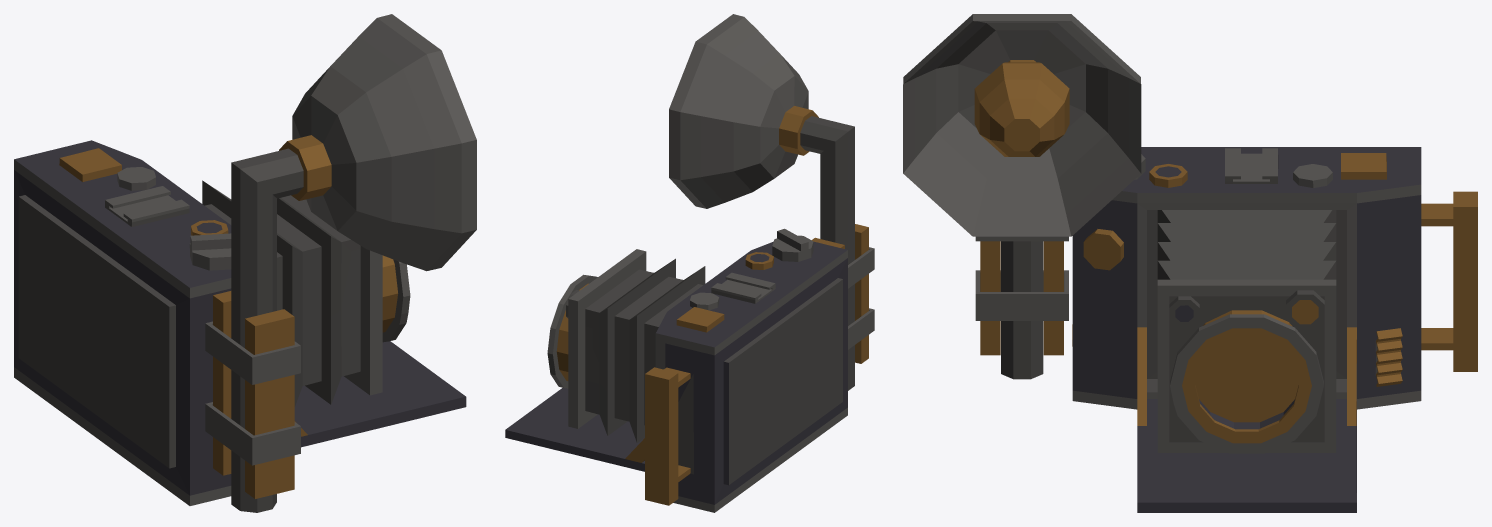
The model's file is CameraBlack.fbx.
The picture shows the model from 3 angles, left to right: view 1: azimuth 30°, elevation 25°; view 2: azimuth 150°, elevation 25°; view 3: azimuth 270°, elevation 25°; orthographic projection. The views are drawn at different scales.
Parts seen in each view (by area): view 1: Camera.001, Flash; view 2: Camera.001, Flash, Camera; view 3: Camera.001, Flash, Camera.
Boxes of the visible parts, box(x1,y1,x2,y2) form: Camera.001: box(14, 140, 466, 505); Flash: box(205, 14, 476, 512); Camera.001: box(505, 228, 847, 512); Flash: box(669, 14, 874, 390); Camera: box(645, 367, 690, 505); Camera.001: box(1072, 147, 1421, 512); Flash: box(903, 14, 1141, 379); Camera: box(1421, 191, 1477, 371).
Size of the model in its own units: 501 by 672 by 796.
